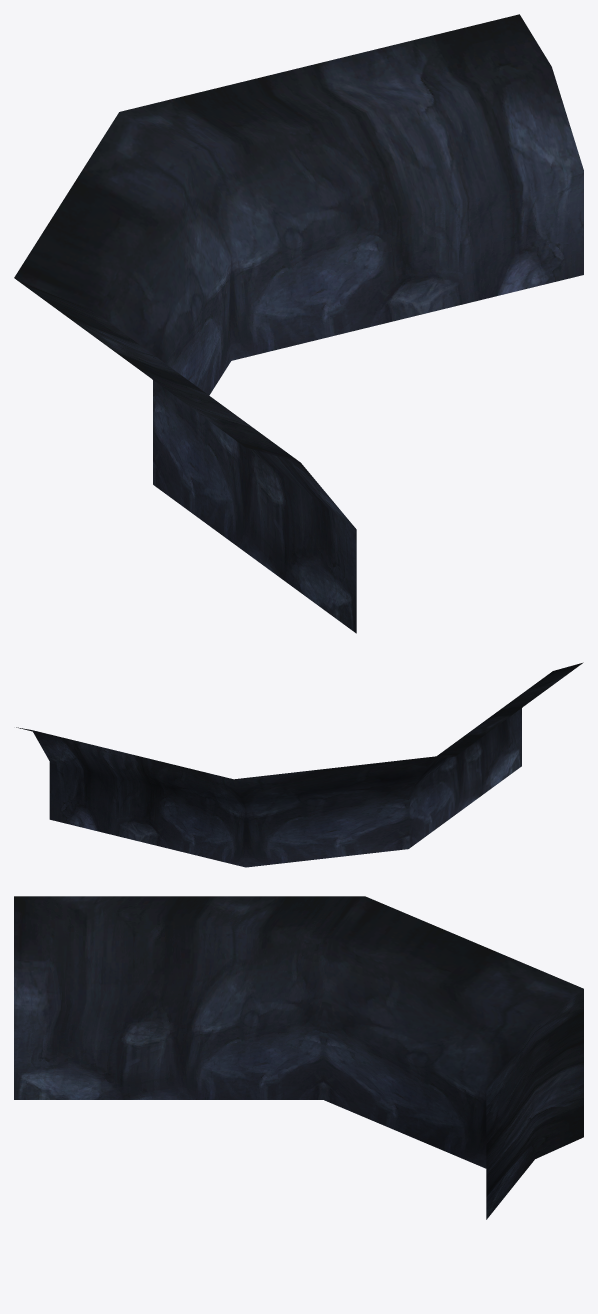
File: mine_cap_concave_01.fbx
3 views of the same model, one above another, from view 1: azimuth 30°, elevation 25°; view 2: azimuth 150°, elevation 25°; view 3: azimuth 270°, elevation 25° (orthographic). The views are drawn at different scales.
Parts seen in each view (by area): view 1: mine_tileset/fade01_mat; view 2: mine_tileset/fade01_mat; view 3: mine_tileset/fade01_mat.
Part boxes in pixels (x1=…): mine_tileset/fade01_mat: x1=14, y1=14, x2=583, y2=633; mine_tileset/fade01_mat: x1=16, y1=662, x2=583, y2=867; mine_tileset/fade01_mat: x1=14, y1=896, x2=583, y2=1219.
Size of the model in its own units: 4.38 by 1.38 by 4.38.
